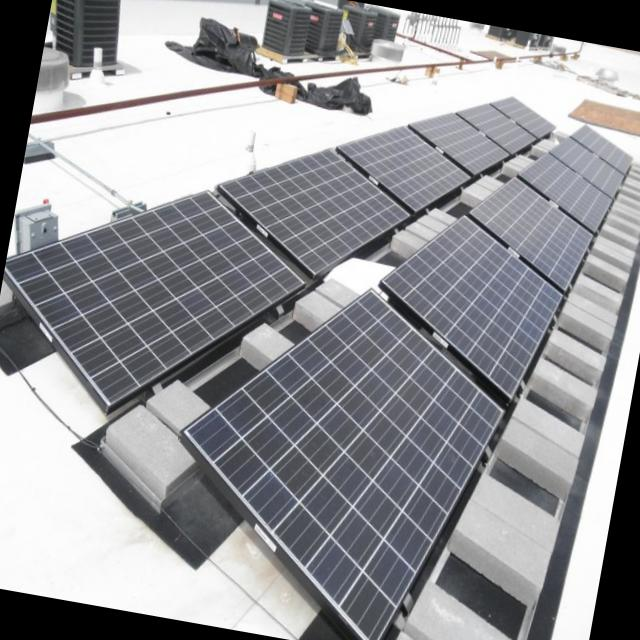no faulty: (183, 282, 495, 634)
